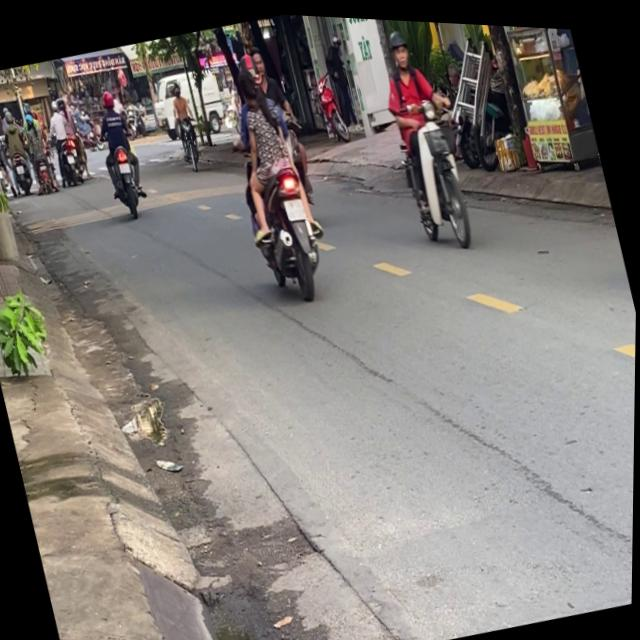helmet: (385, 22, 415, 69)
licenseplate: (207, 34, 345, 306), (365, 15, 485, 252)
motorcyclist: (232, 58, 262, 101), (243, 42, 271, 86)
nohelmet: (285, 192, 307, 217)
